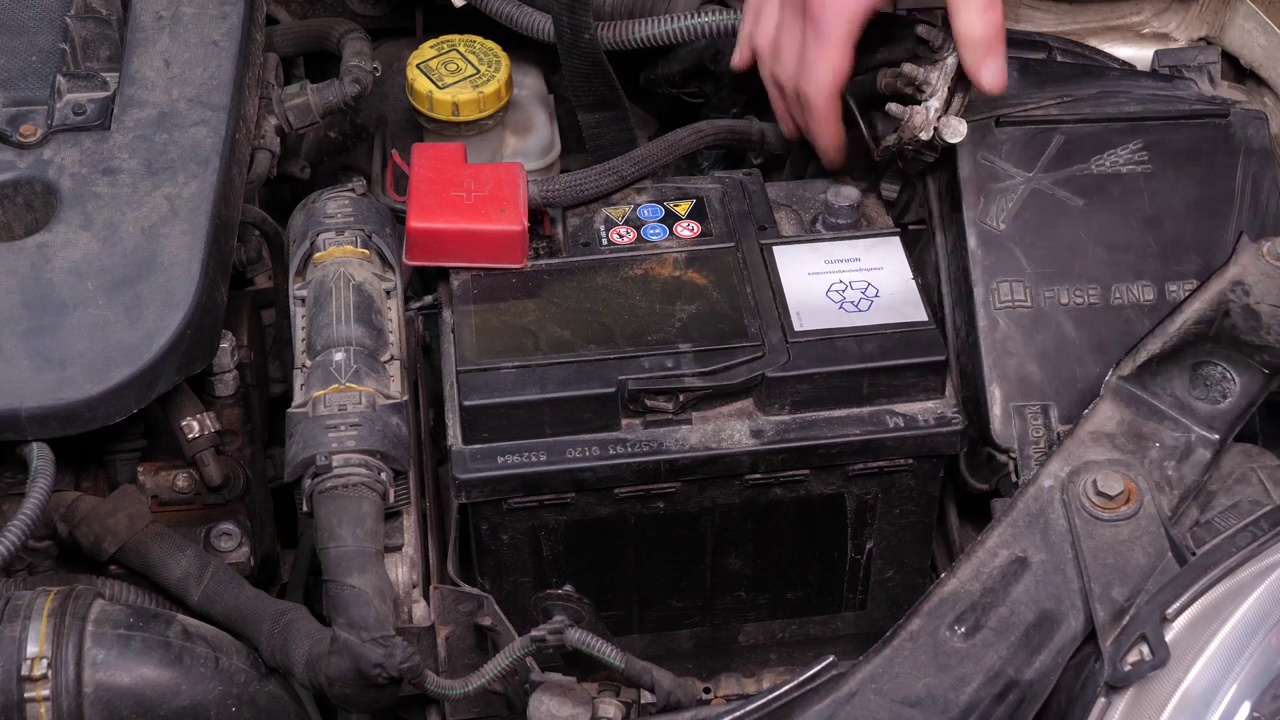battery: (394, 128, 954, 388)
neg_disconnected: (775, 162, 914, 251)
pos_connected: (395, 123, 546, 291)
